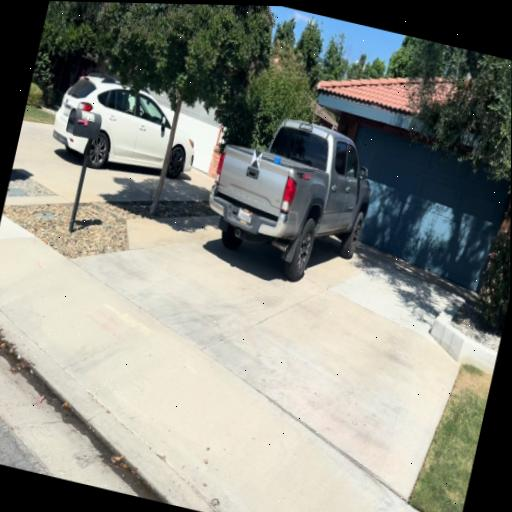target1: (250, 148, 262, 168)
